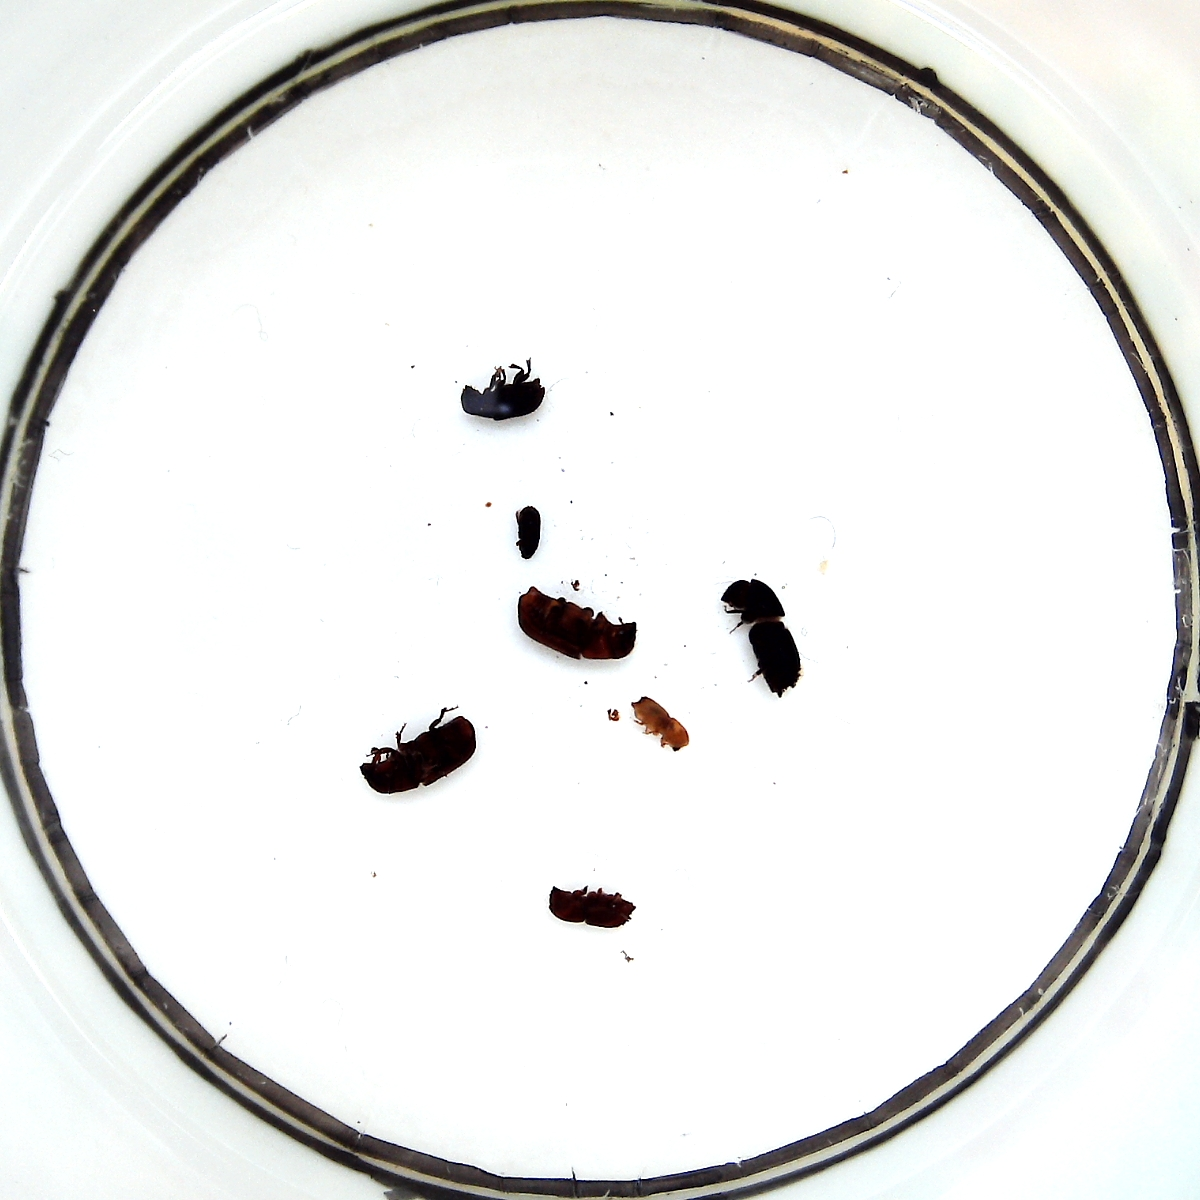Boerner: (721, 578, 802, 699)
Leconte: (518, 586, 637, 662), (359, 716, 477, 793)
acuminatus: (516, 505, 541, 560)
armandi: (460, 378, 545, 421)
coleoptera: (631, 695, 689, 751)
linnaeus: (548, 886, 636, 929)
